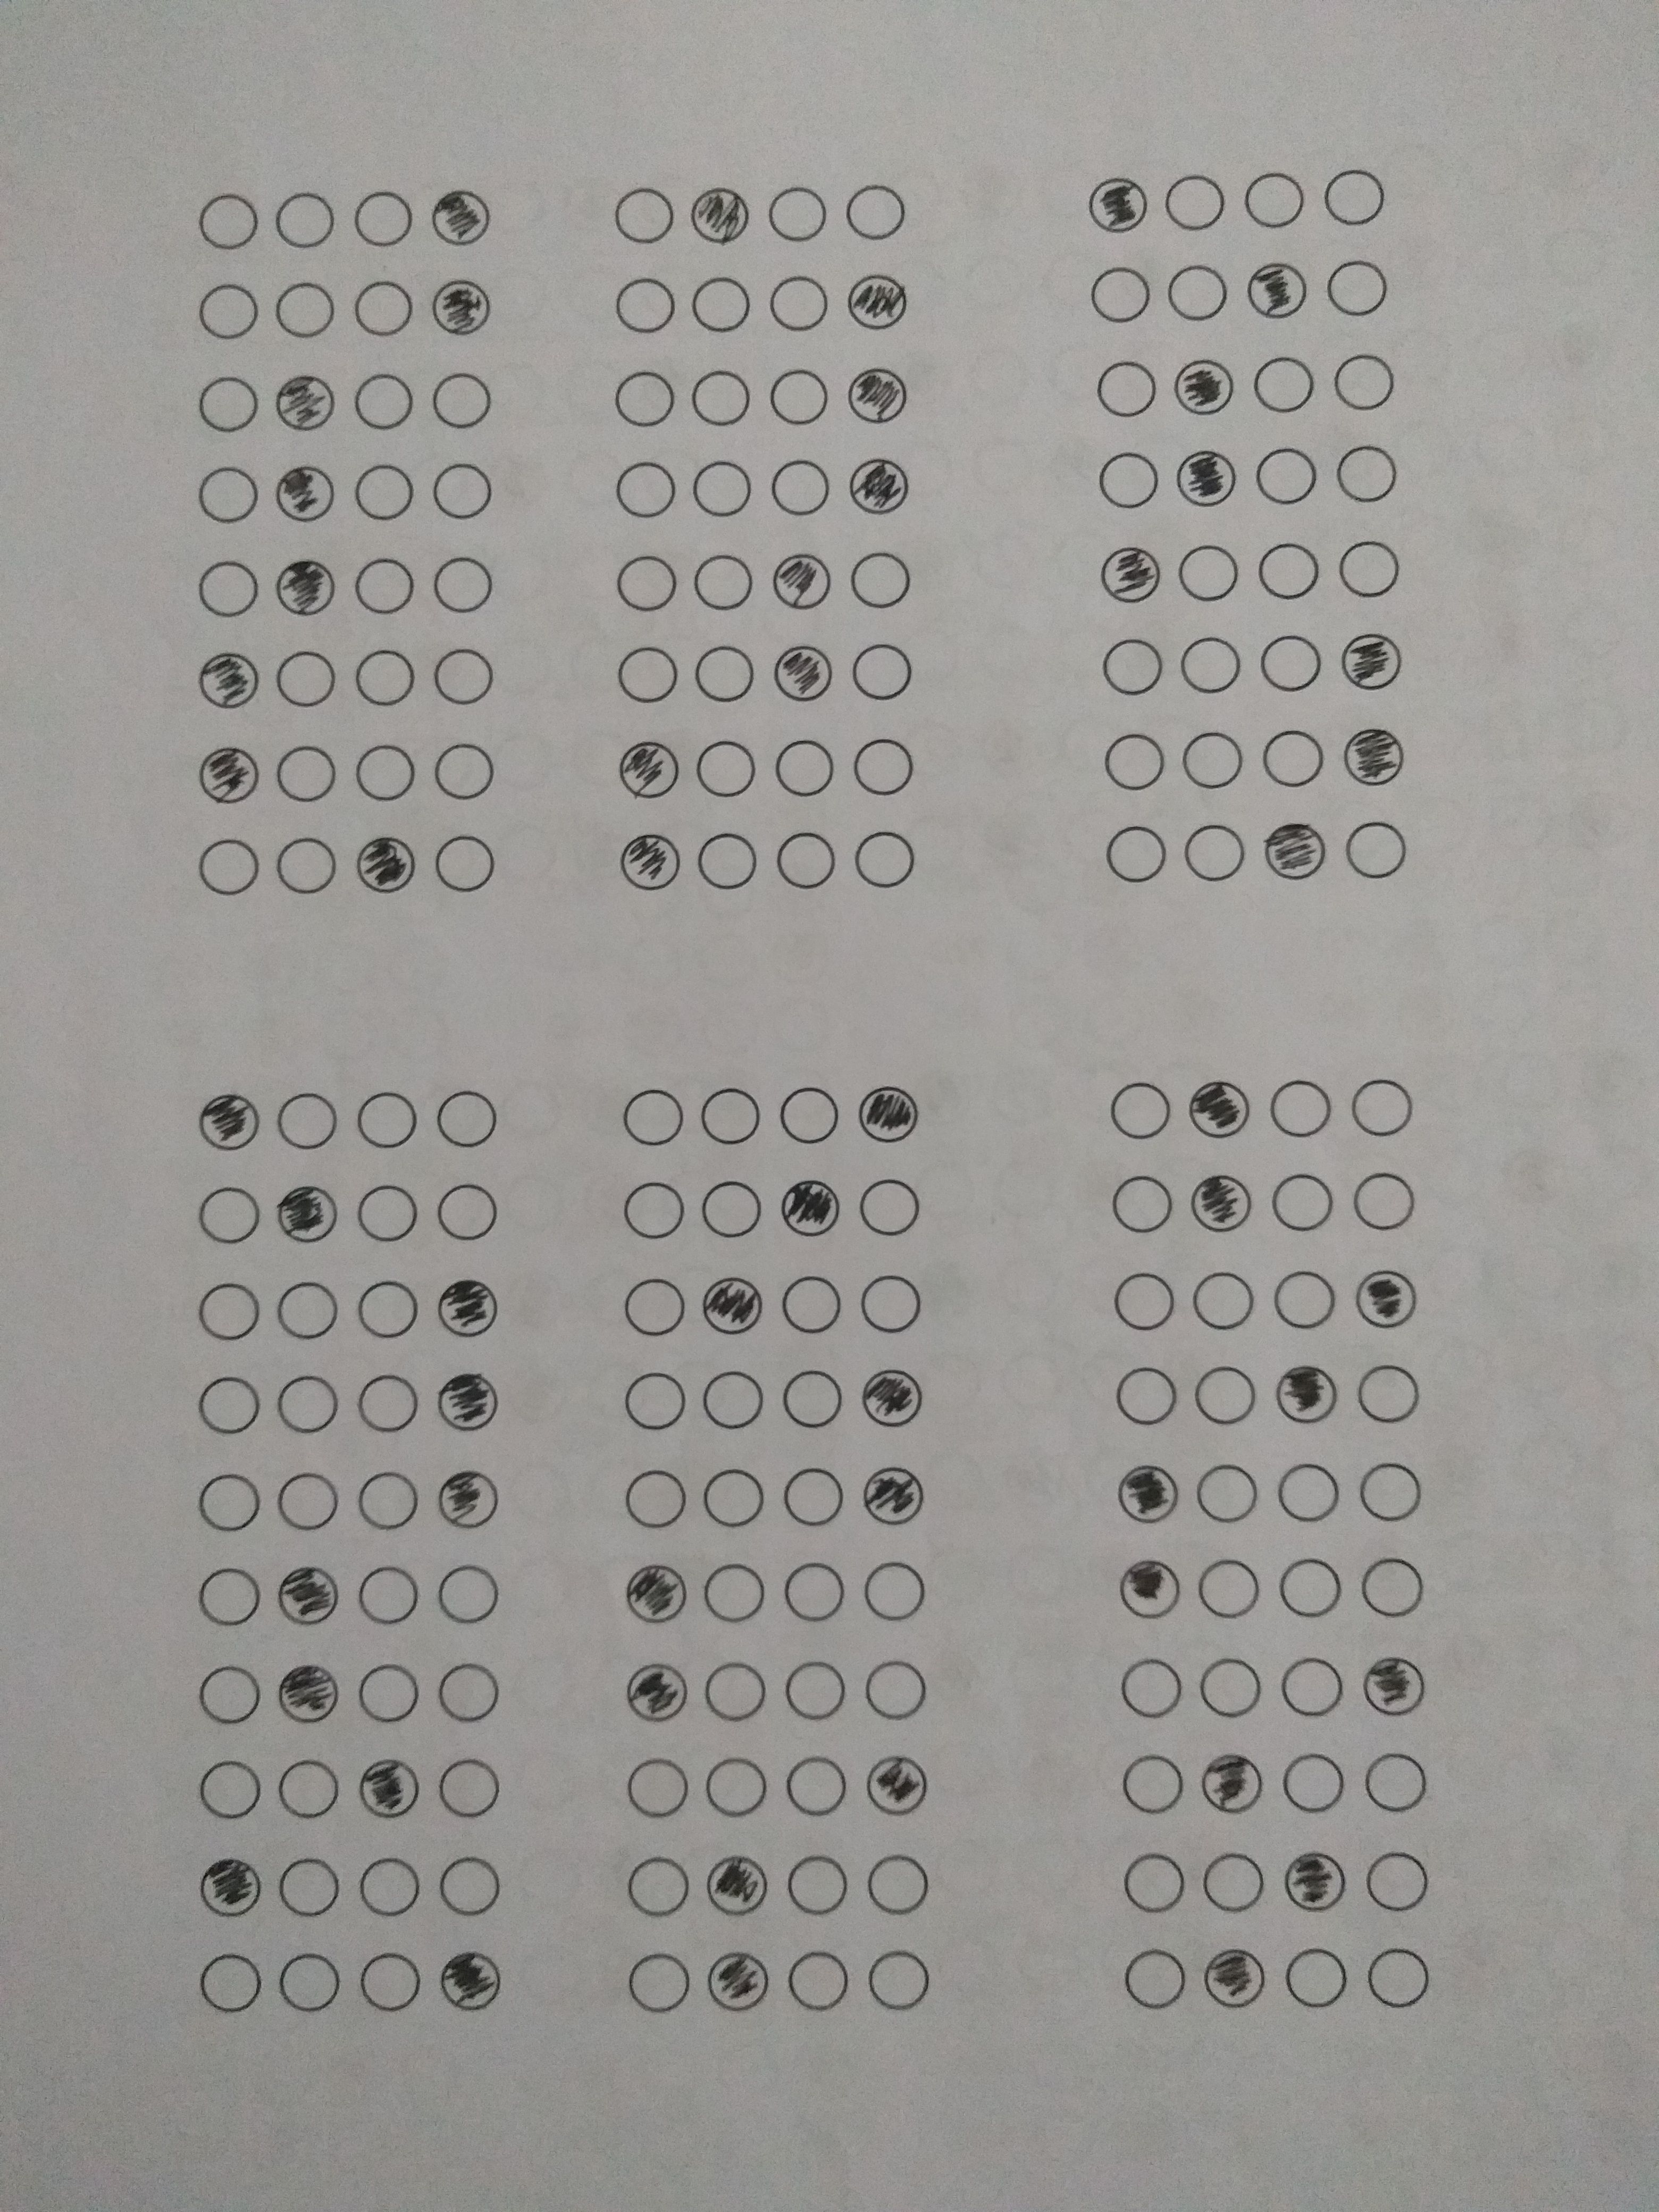not-c: (192, 1660, 263, 1730), (1363, 1848, 1434, 1918), (1197, 1649, 1267, 1719), (1119, 1944, 1190, 2012), (612, 453, 681, 521), (1110, 1362, 1180, 1430), (1119, 1649, 1187, 1719), (1277, 1649, 1347, 1717), (692, 735, 763, 801), (1175, 631, 1246, 697), (425, 737, 498, 801), (1277, 1750, 1352, 1813), (274, 1850, 342, 1918), (626, 1946, 692, 2015), (195, 1754, 261, 1824), (1347, 1075, 1419, 1139), (617, 1367, 688, 1432), (195, 1371, 267, 1435), (349, 186, 416, 253), (857, 1270, 924, 1338), (782, 1752, 849, 1820), (622, 1853, 688, 1921), (354, 1853, 422, 1919), (687, 549, 756, 613), (1112, 1268, 1182, 1332), (1188, 1268, 1258, 1332), (1119, 1750, 1188, 1815), (432, 1756, 502, 1820), (620, 1177, 690, 1242), (434, 1658, 500, 1724), (699, 1366, 765, 1432), (612, 641, 680, 705), (1267, 1076, 1335, 1141), (864, 1848, 929, 1916), (195, 1951, 263, 2015), (195, 1470, 263, 1534), (425, 368, 495, 430), (1190, 1362, 1260, 1425), (859, 1658, 929, 1721), (1349, 1170, 1420, 1231), (430, 458, 495, 524), (842, 179, 908, 244), (767, 270, 831, 336), (1182, 819, 1248, 883), (1108, 1078, 1175, 1143), (777, 1083, 842, 1150), (779, 1270, 843, 1336), (1274, 1461, 1340, 1526), (784, 1851, 850, 1916), (786, 1947, 852, 2012), (626, 1756, 690, 1822), (701, 1559, 765, 1625), (355, 1660, 422, 1724), (622, 1467, 688, 1531), (701, 1465, 767, 1529), (355, 1371, 422, 1435), (432, 1085, 498, 1150), (430, 833, 498, 895), (612, 185, 680, 247), (767, 362, 829, 430), (1328, 350, 1396, 413), (1342, 819, 1410, 881), (1122, 1851, 1190, 1914), (437, 1855, 505, 1918), (354, 1087, 422, 1150), (1094, 634, 1164, 695), (195, 279, 260, 343), (352, 368, 416, 432), (352, 738, 416, 803), (612, 270, 676, 334), (1096, 446, 1161, 510), (1356, 1360, 1420, 1425), (1197, 1557, 1262, 1622), (781, 1559, 845, 1623), (861, 1559, 925, 1623), (275, 1757, 340, 1822), (702, 1660, 767, 1724), (197, 462, 260, 528), (274, 834, 340, 897), (1363, 1750, 1429, 1813), (1366, 1944, 1429, 2010), (275, 1951, 342, 2013), (357, 1947, 420, 2013), (195, 1564, 261, 1627), (275, 1280, 342, 1343), (429, 644, 497, 705), (845, 549, 913, 610), (1178, 730, 1246, 791), (274, 1374, 342, 1435), (1270, 1270, 1340, 1329), (197, 186, 260, 251), (430, 554, 495, 617), (195, 557, 260, 620), (274, 648, 338, 711), (688, 272, 751, 336), (690, 458, 755, 521), (769, 455, 831, 519), (770, 737, 835, 799), (1094, 357, 1159, 420), (1260, 629, 1324, 691), (779, 1367, 842, 1432), (781, 1465, 845, 1527), (1195, 1461, 1258, 1526), (784, 1658, 849, 1721), (866, 1947, 931, 2010), (1202, 1851, 1265, 1916), (624, 1273, 687, 1338), (352, 556, 418, 617), (849, 829, 915, 890), (1108, 1174, 1175, 1235), (856, 1177, 922, 1238), (1359, 1458, 1420, 1524), (847, 643, 915, 702), (347, 463, 416, 521), (277, 742, 340, 805), (197, 834, 260, 897), (615, 366, 678, 428), (694, 643, 756, 705), (850, 737, 913, 799), (1176, 540, 1239, 603), (272, 280, 336, 341), (687, 366, 751, 427), (1262, 726, 1326, 787), (1270, 1172, 1335, 1233), (1279, 1557, 1344, 1618), (1284, 1947, 1349, 2008), (706, 1754, 767, 1818), (274, 1472, 338, 1533), (615, 554, 681, 613), (1253, 446, 1319, 505), (1361, 1557, 1427, 1616), (274, 1090, 340, 1150), (274, 188, 336, 249), (437, 1564, 500, 1625), (199, 1280, 260, 1343), (355, 1183, 418, 1244), (355, 1470, 420, 1529), (197, 1184, 261, 1244), (1249, 355, 1316, 413), (775, 829, 836, 890), (1337, 442, 1398, 503), (359, 1278, 420, 1339), (437, 1183, 498, 1244), (1168, 260, 1227, 322), (1338, 538, 1401, 597), (1105, 826, 1168, 885), (701, 1179, 763, 1238), (1323, 167, 1387, 225), (1324, 260, 1389, 317), (1244, 169, 1303, 230), (1091, 263, 1150, 324), (1258, 540, 1317, 601), (357, 1566, 418, 1625), (699, 1085, 760, 1144), (354, 280, 416, 338), (199, 376, 261, 434), (355, 648, 418, 705), (767, 186, 829, 244), (695, 833, 758, 890), (1103, 733, 1164, 791), (624, 1089, 685, 1146), (1164, 174, 1227, 230)
taken-c: (1199, 1750, 1267, 1817), (439, 1947, 505, 2013), (1119, 1555, 1185, 1622), (436, 1371, 502, 1435), (864, 1752, 931, 1817), (1187, 1078, 1253, 1143), (622, 1662, 690, 1724), (197, 1089, 261, 1153), (436, 1467, 500, 1531), (626, 1561, 690, 1625), (1283, 1851, 1347, 1916), (195, 650, 261, 712), (704, 1855, 770, 1918), (1175, 448, 1241, 510), (859, 1465, 927, 1526), (436, 1275, 500, 1338), (357, 1756, 422, 1818), (708, 1949, 770, 2013), (1117, 1463, 1180, 1527), (1354, 1268, 1417, 1332), (1188, 1172, 1253, 1235), (195, 745, 261, 806), (195, 1857, 261, 1918), (1274, 1364, 1340, 1425), (1244, 260, 1310, 320), (277, 1183, 340, 1245), (1204, 1947, 1267, 2010), (274, 373, 338, 434), (845, 273, 910, 334), (847, 455, 911, 516), (770, 643, 835, 704), (777, 1177, 842, 1238), (701, 1277, 765, 1338), (1175, 357, 1239, 418), (1100, 542, 1161, 606), (1340, 631, 1405, 691), (1342, 726, 1406, 787), (1263, 820, 1328, 881), (617, 833, 683, 892), (274, 1665, 340, 1724), (688, 185, 751, 246), (620, 738, 681, 801), (279, 1566, 342, 1627), (863, 1367, 925, 1428), (1363, 1655, 1425, 1716), (1087, 174, 1150, 235), (772, 549, 831, 613), (430, 186, 491, 247), (274, 463, 335, 524), (274, 557, 335, 618), (355, 834, 418, 894), (847, 366, 910, 425), (857, 1087, 920, 1146), (430, 275, 491, 334)
